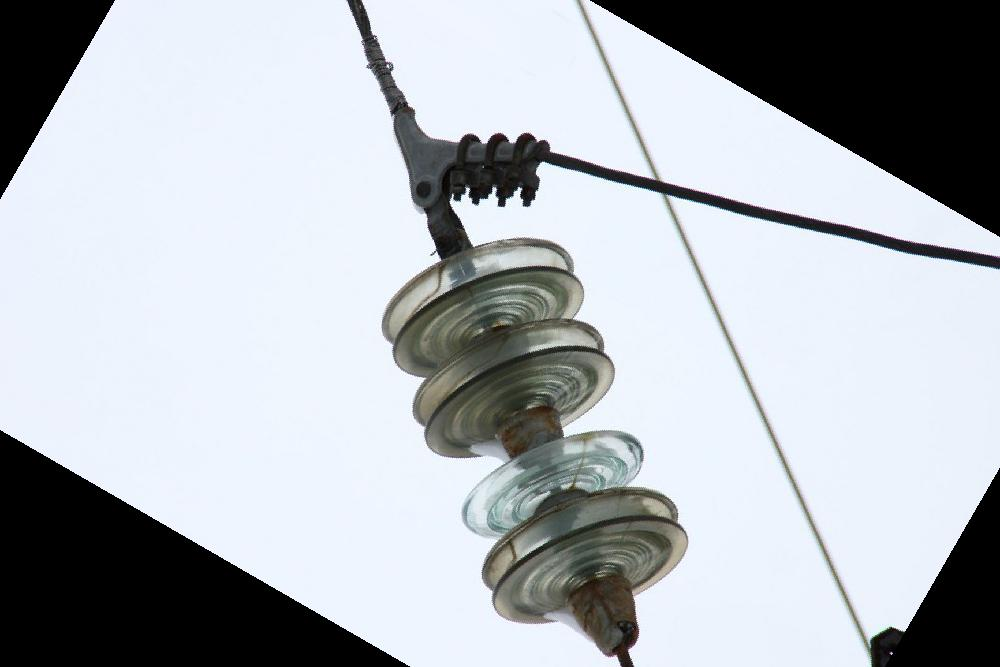insulator: (379, 232, 696, 632)
insulator_stringdrop: (406, 313, 650, 547)
